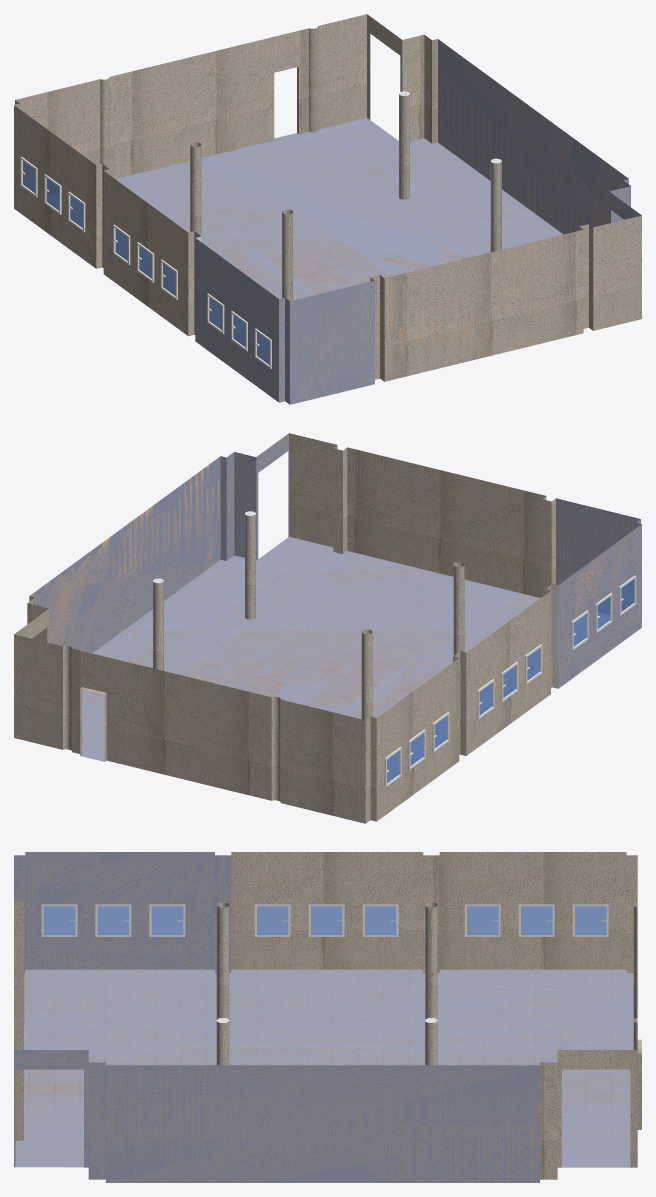
Rendered from COM017.obj.
3 views of the same model, one above another, from view 1: azimuth 30°, elevation 25°; view 2: azimuth 150°, elevation 25°; view 3: azimuth 270°, elevation 25° (orthographic). The views are drawn at different scales.
Visible parts, largest first — view 1: Mesh28 COM017 Model, Mesh19 ventana3_1_7 COM017 Model, Mesh4 ventana3_1_2 COM017 Model, Mesh7 ventana3_1_3 COM017 Model, Mesh10 ventana3_1_4 COM017 Model, Mesh22 ventana3_1_8 COM017 Model, Mesh25 ventana3_1_9 COM017 Model, Mesh1 ventana3_1_1 COM017 Model, Mesh16 ventana3_1_6 COM017 Model; view 2: Mesh28 COM017 Model, Mesh1 ventana3_1_1 COM017 Model, Mesh4 ventana3_1_2 COM017 Model, Mesh13 ventana3_1_5 COM017 Model, Mesh16 ventana3_1_6 COM017 Model, Mesh22 ventana3_1_8 COM017 Model, Mesh25 ventana3_1_9 COM017 Model, Mesh7 ventana3_1_3 COM017 Model, Mesh10 ventana3_1_4 COM017 Model, Mesh19 ventana3_1_7 COM017 Model; view 3: Mesh28 COM017 Model, Mesh1 ventana3_1_1 COM017 Model, Mesh4 ventana3_1_2 COM017 Model, Mesh7 ventana3_1_3 COM017 Model, Mesh10 ventana3_1_4 COM017 Model, Mesh13 ventana3_1_5 COM017 Model, Mesh16 ventana3_1_6 COM017 Model, Mesh19 ventana3_1_7 COM017 Model, Mesh22 ventana3_1_8 COM017 Model, Mesh25 ventana3_1_9 COM017 Model.
Part boxes in pixels (x1=…): Mesh28 COM017 Model: x1=14, y1=14, x2=641, y2=404; Mesh19 ventana3_1_7 COM017 Model: x1=160, y1=259, x2=177, y2=300; Mesh4 ventana3_1_2 COM017 Model: x1=44, y1=174, x2=61, y2=214; Mesh7 ventana3_1_3 COM017 Model: x1=20, y1=157, x2=37, y2=197; Mesh10 ventana3_1_4 COM017 Model: x1=137, y1=242, x2=154, y2=282; Mesh22 ventana3_1_8 COM017 Model: x1=68, y1=191, x2=85, y2=232; Mesh25 ventana3_1_9 COM017 Model: x1=254, y1=328, x2=271, y2=368; Mesh1 ventana3_1_1 COM017 Model: x1=113, y1=224, x2=130, y2=265; Mesh16 ventana3_1_6 COM017 Model: x1=207, y1=293, x2=224, y2=333; Mesh28 COM017 Model: x1=14, y1=433, x2=641, y2=823; Mesh1 ventana3_1_1 COM017 Model: x1=477, y1=679, x2=494, y2=719; Mesh4 ventana3_1_2 COM017 Model: x1=408, y1=729, x2=425, y2=769; Mesh13 ventana3_1_5 COM017 Model: x1=595, y1=593, x2=612, y2=633; Mesh16 ventana3_1_6 COM017 Model: x1=571, y1=610, x2=588, y2=650; Mesh22 ventana3_1_8 COM017 Model: x1=432, y1=712, x2=449, y2=752; Mesh25 ventana3_1_9 COM017 Model: x1=619, y1=575, x2=636, y2=615; Mesh7 ventana3_1_3 COM017 Model: x1=384, y1=747, x2=401, y2=787; Mesh10 ventana3_1_4 COM017 Model: x1=501, y1=661, x2=518, y2=702; Mesh19 ventana3_1_7 COM017 Model: x1=525, y1=644, x2=542, y2=684; Mesh28 COM017 Model: x1=14, y1=852, x2=641, y2=1182; Mesh1 ventana3_1_1 COM017 Model: x1=362, y1=904, x2=398, y2=936; Mesh4 ventana3_1_2 COM017 Model: x1=518, y1=904, x2=554, y2=936; Mesh7 ventana3_1_3 COM017 Model: x1=572, y1=904, x2=608, y2=936; Mesh10 ventana3_1_4 COM017 Model: x1=308, y1=904, x2=344, y2=936; Mesh13 ventana3_1_5 COM017 Model: x1=95, y1=904, x2=131, y2=936; Mesh16 ventana3_1_6 COM017 Model: x1=149, y1=904, x2=185, y2=936; Mesh19 ventana3_1_7 COM017 Model: x1=254, y1=904, x2=290, y2=936; Mesh22 ventana3_1_8 COM017 Model: x1=464, y1=904, x2=500, y2=936; Mesh25 ventana3_1_9 COM017 Model: x1=41, y1=904, x2=77, y2=936.
Size of the model in its own units: 14.08 by 3.6 by 17.45.
7 materials, 2 textured.
